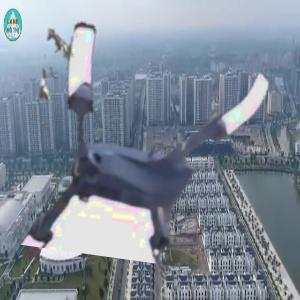drone: (33, 22, 275, 264)
